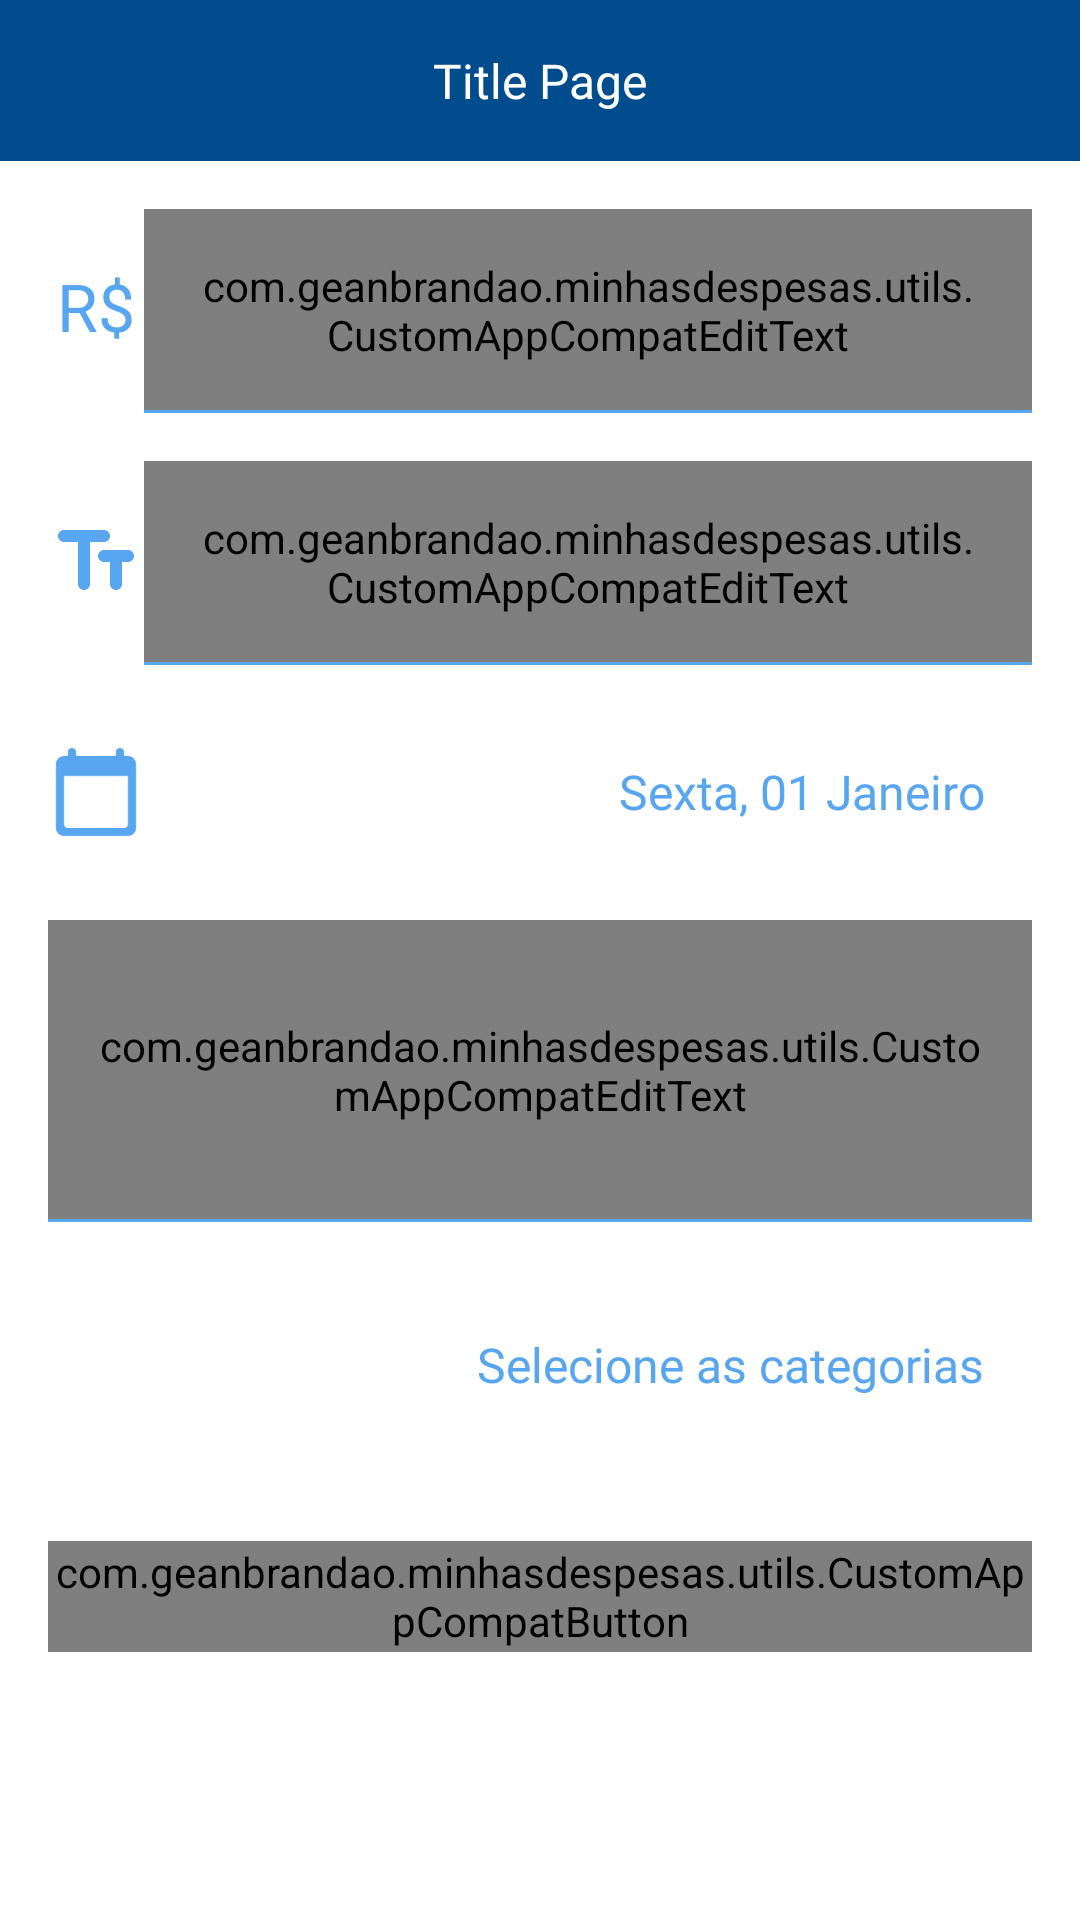

Icons on this 1080 × 1920 Android screen, each with the point to tap as (x=x, y=y):
calendar: (x=96, y=792)
text fields: (x=96, y=560)
